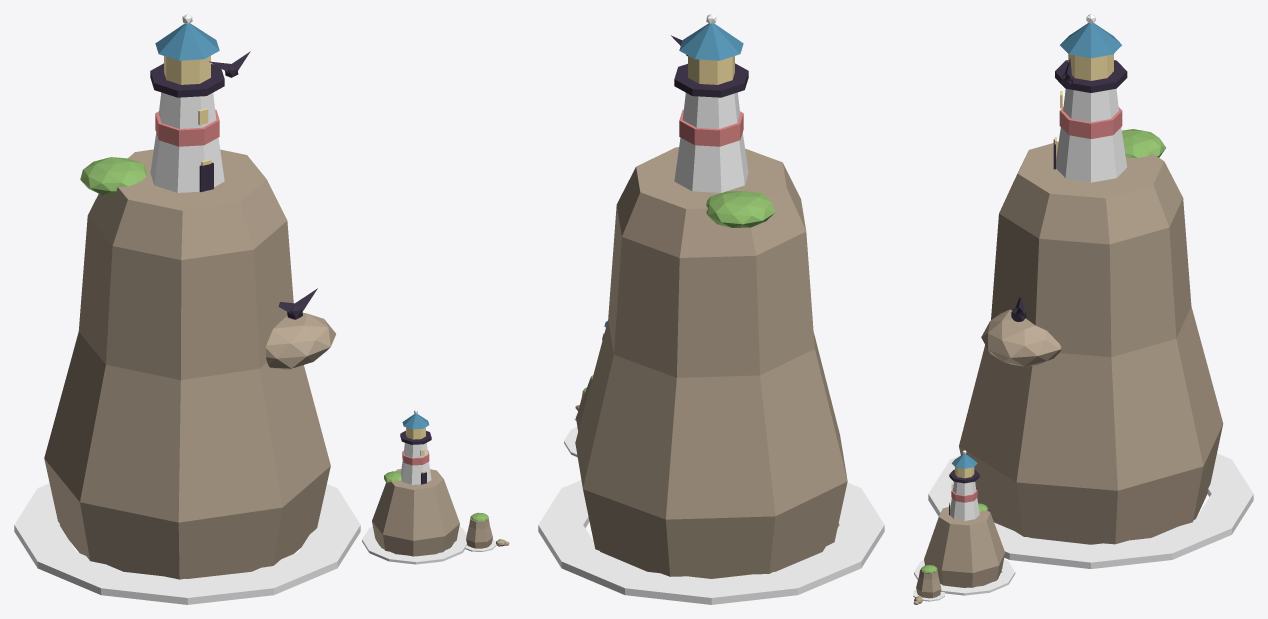
Rendered from ocean-g3.glb.
3 views of the same model, side by side, from view 1: azimuth 30°, elevation 25°; view 2: azimuth 150°, elevation 25°; view 3: azimuth 270°, elevation 25° (orthographic). The views are drawn at different scales.
Visible parts, largest first — view 1: ocean-g3; view 2: ocean-g3; view 3: ocean-g3.
Part boxes in pixels (<box>): ocean-g3: <box>14,14,509,604</box>; ocean-g3: <box>538,14,884,604</box>; ocean-g3: <box>913,14,1253,604</box>.
Bounding box in the file's own units: 3.41 × 4.45 × 2.83.
